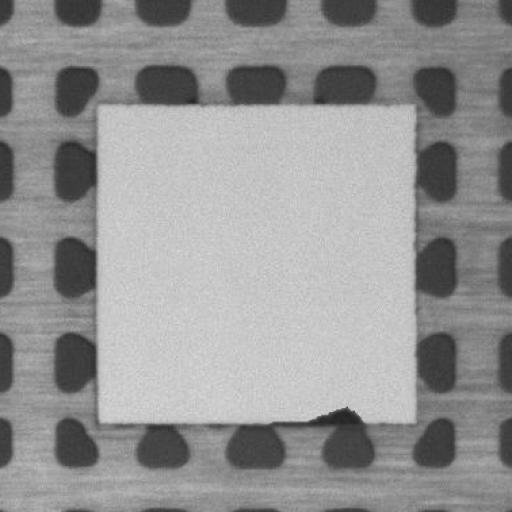DIE_BROKEN: (265, 402, 370, 426)
